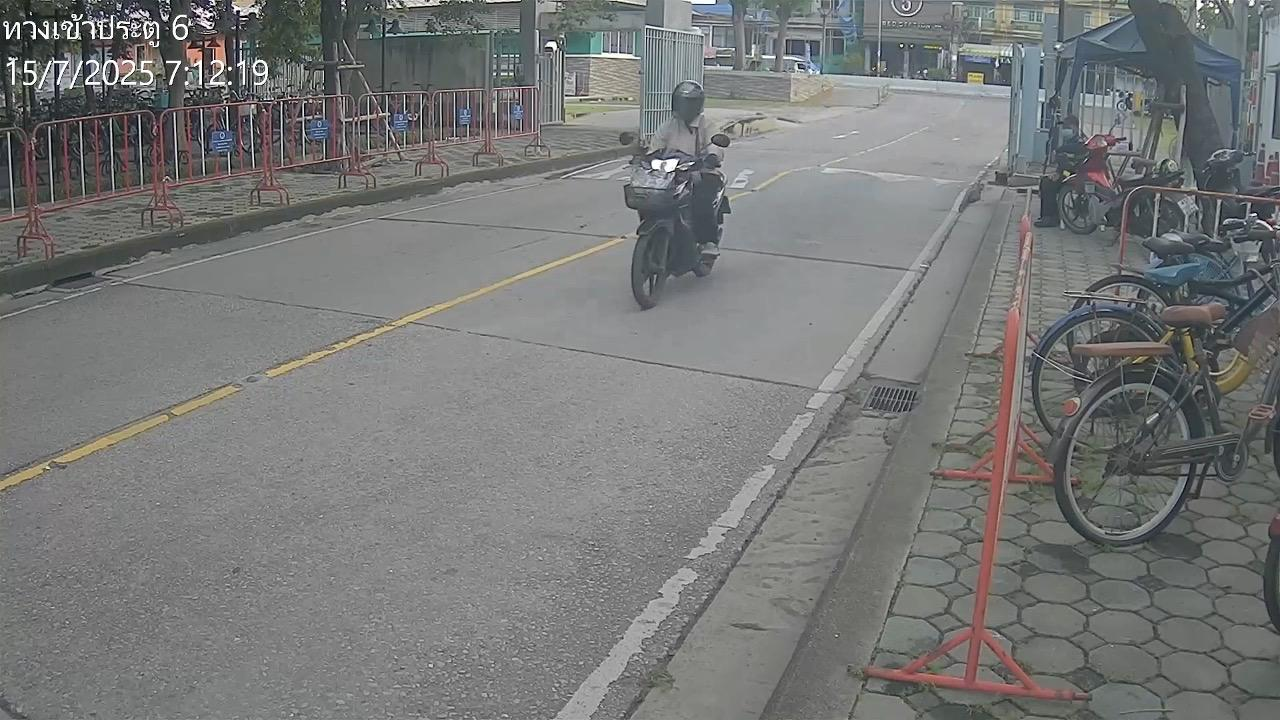With-Helmet: (669, 79, 706, 120)
